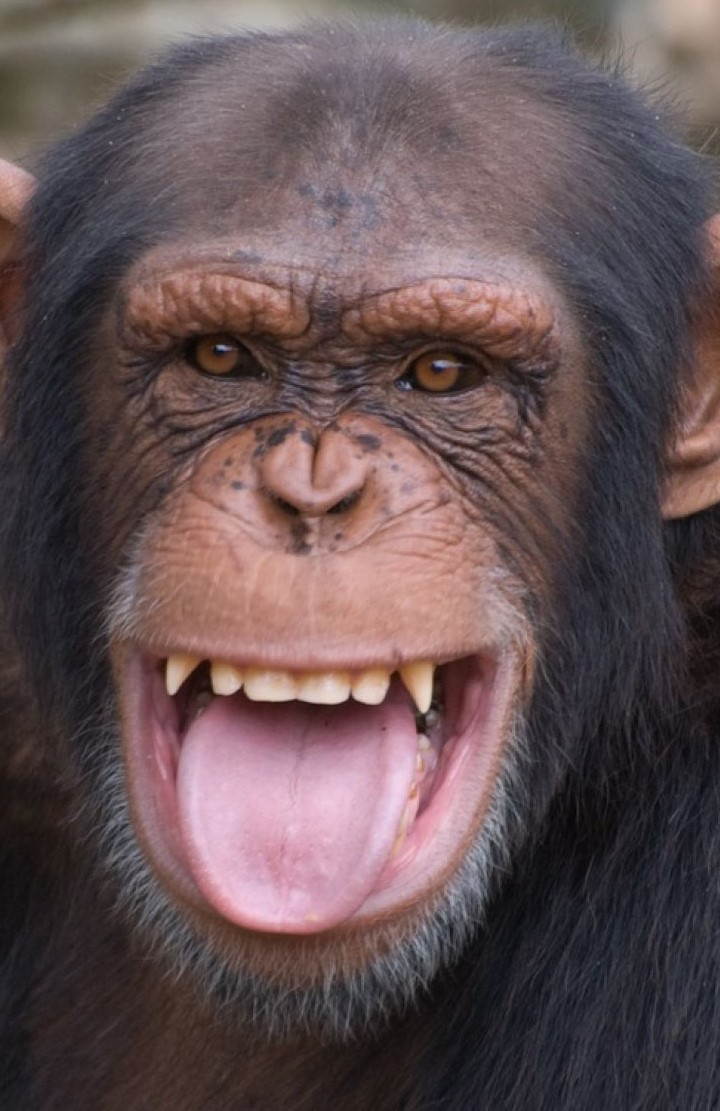Chimpanzee: (56, 102, 648, 1004)
